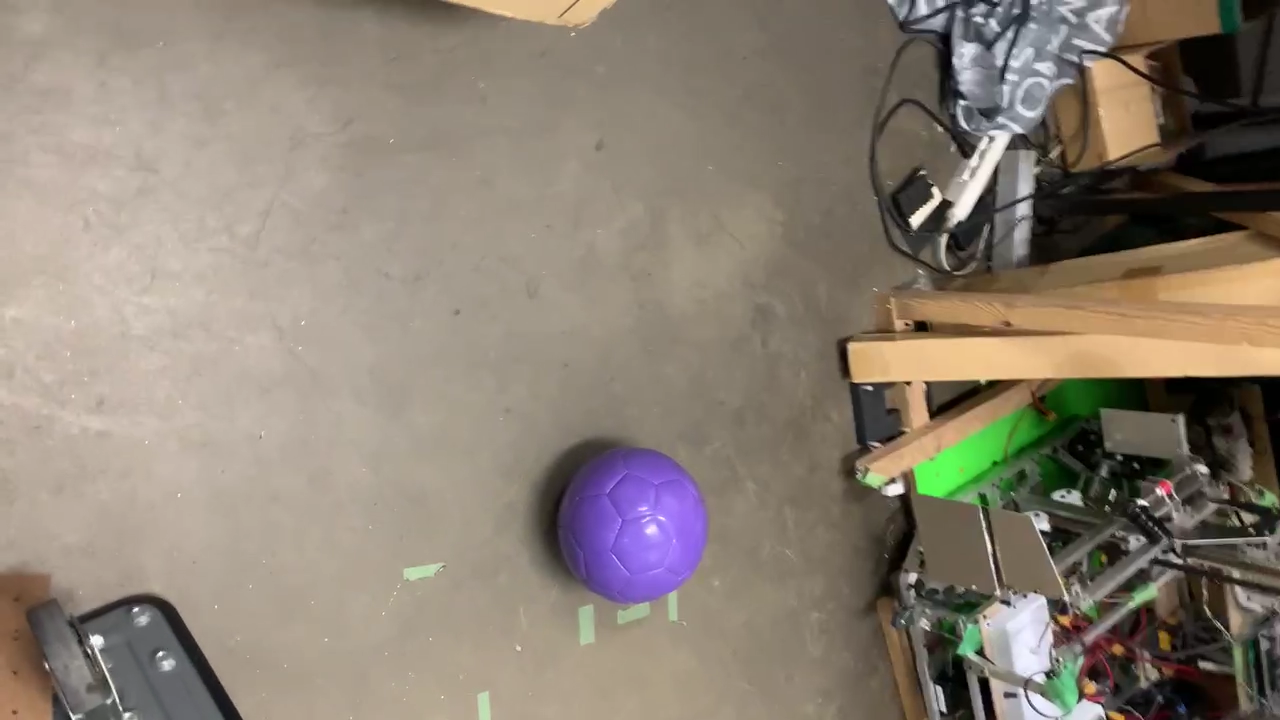purple: (550, 452, 709, 602)
